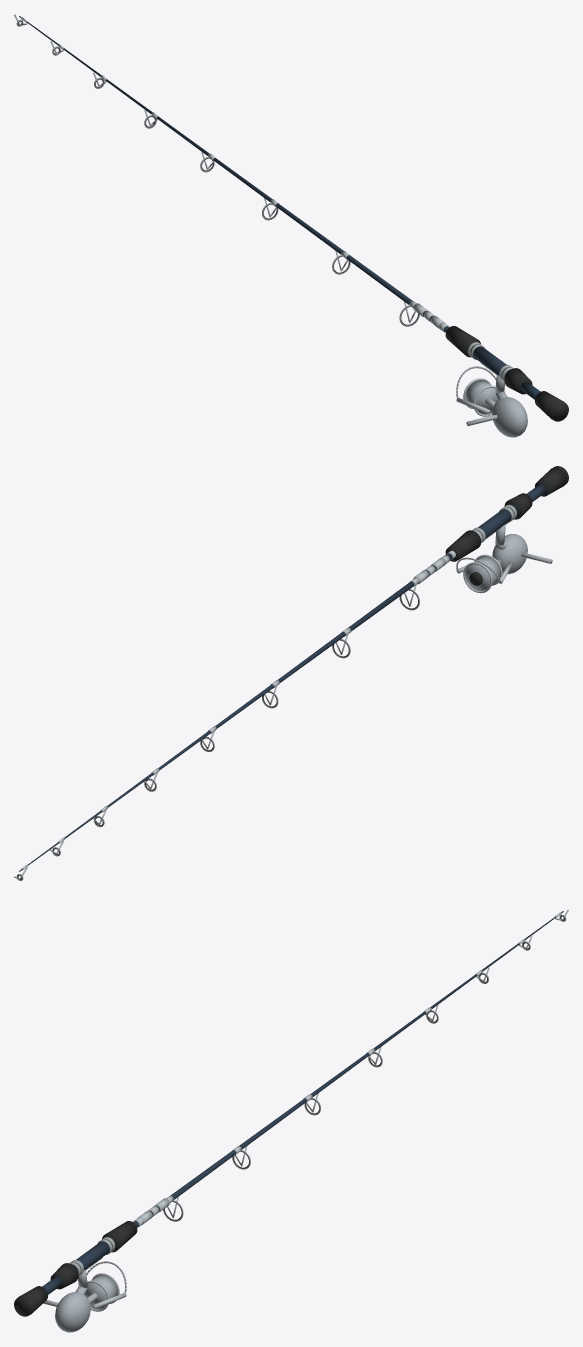
Rendered from reed.glb.
3 renders of one model, top to bottom at view 1: azimuth 30°, elevation 25°; view 2: azimuth 150°, elevation 25°; view 3: azimuth 330°, elevation 25°, orthographic.
Visible parts, largest first — view 1: Tapered carbon blank.001; view 2: Tapered carbon blank.001; view 3: Tapered carbon blank.001.
Boxes of the visible parts, x1,y1,x2,y2 form: Tapered carbon blank.001: (14,14,568,437); Tapered carbon blank.001: (14,466,568,880); Tapered carbon blank.001: (14,909,568,1332).
Bounding box in the file's own units: 0.1318 × 0.1349 × 1.91.
